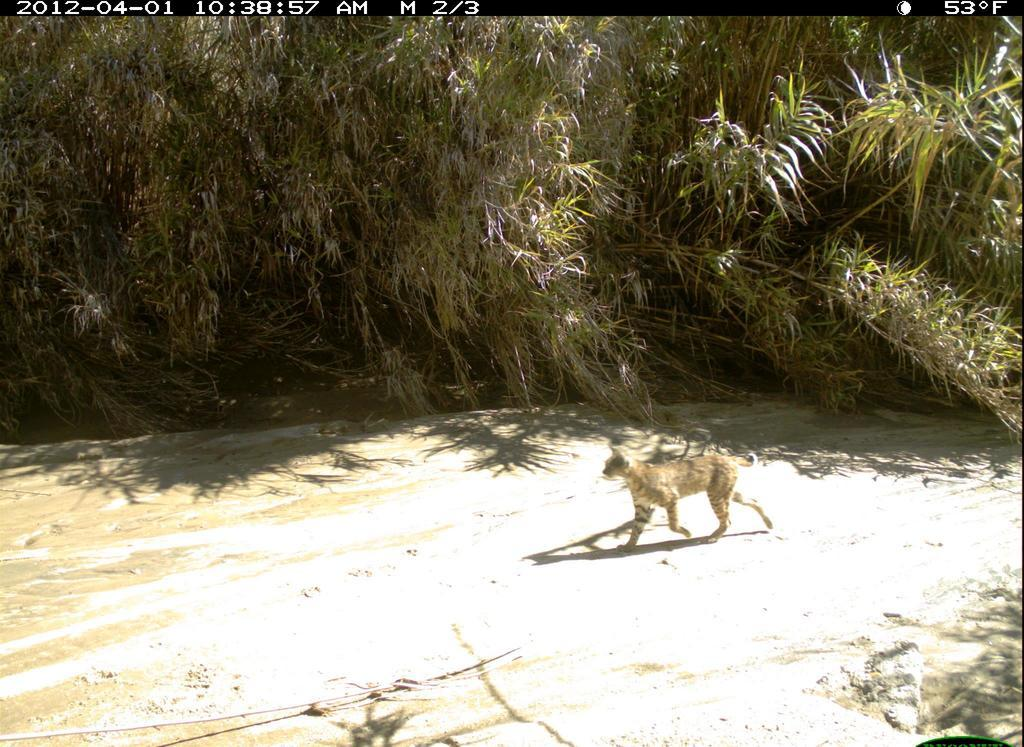bobcat: (596, 441, 779, 557)
